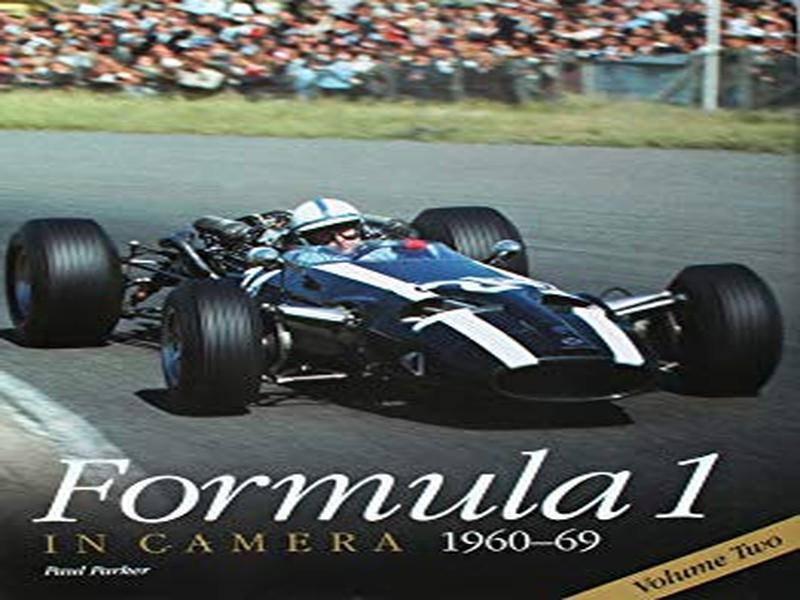f1: (20, 172, 789, 423)
